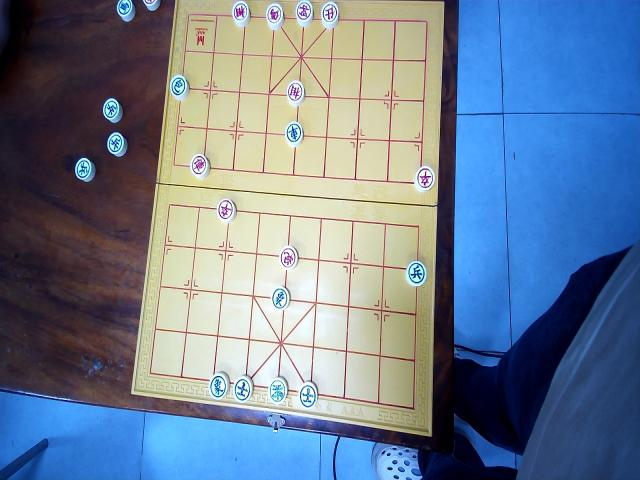piece: (414, 164, 436, 192), (405, 260, 427, 287), (233, 375, 253, 403), (208, 372, 228, 400), (75, 156, 95, 183), (298, 382, 318, 409), (169, 74, 189, 101), (268, 377, 288, 404), (320, 2, 339, 30), (102, 97, 122, 123), (190, 154, 210, 180), (107, 132, 127, 158), (295, 1, 314, 28), (286, 79, 305, 106), (231, 1, 250, 28), (265, 2, 283, 30), (217, 198, 236, 223), (280, 245, 298, 270), (271, 286, 289, 311), (284, 121, 302, 146), (116, 0, 135, 22), (141, 0, 160, 11)
